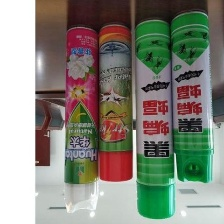aerosol_cans: (133, 15, 179, 222), (167, 6, 216, 185), (61, 23, 101, 214), (95, 21, 136, 184)
